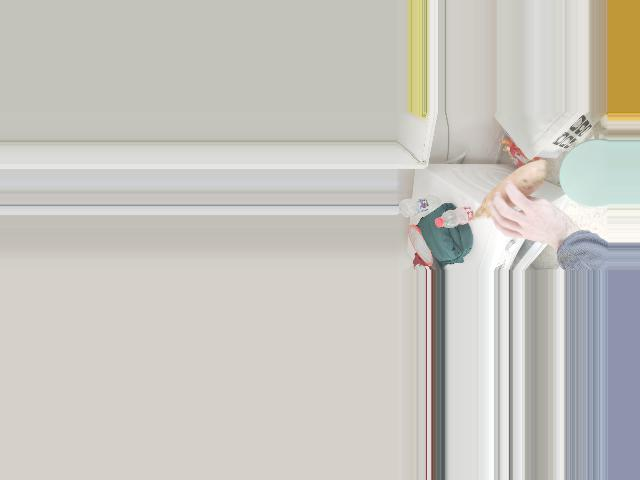sweet_potato: (477, 162, 537, 234)
